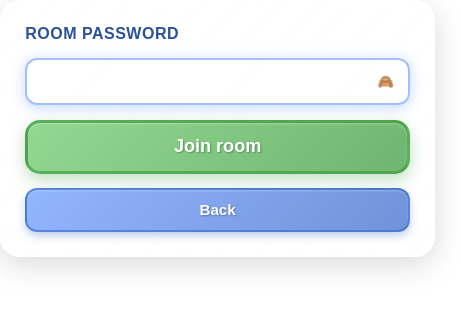
CreateRoom Component › Join Mode › should show password retry failure messages
Type "secret" into the field labelled "Room password" at (218, 81), box [25,58,410,105]
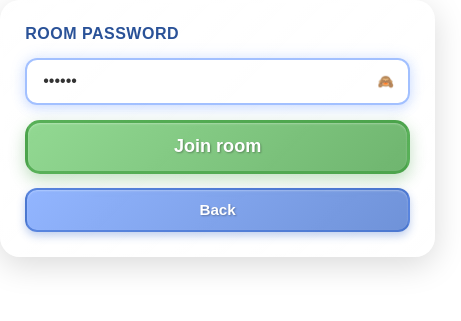
Submit the form labelled "Room password", box [25,25,410,232]
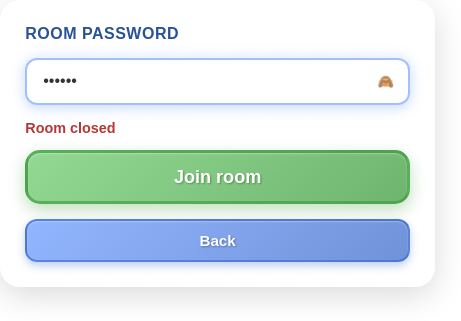
Check: the text "Room closed" is shown, box [25,120,116,136]
